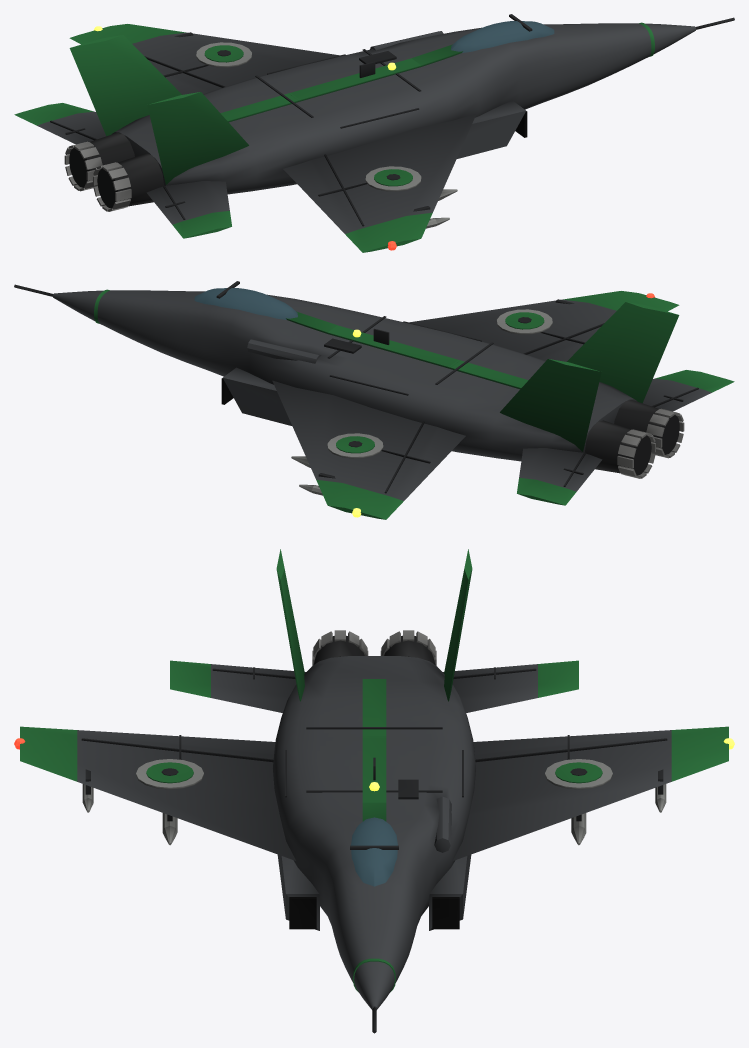
File: u_jet.glb
3 renders of one model, top to bottom at view 1: azimuth 30°, elevation 25°; view 2: azimuth 150°, elevation 25°; view 3: azimuth 270°, elevation 25°, orthographic. The views are drawn at different scales.
Parts seen in each view (by area): view 1: Jet_Walls, Jet_Details; view 2: Jet_Walls, Jet_Details; view 3: Jet_Walls, Jet_Details.
Part boxes in pixels (box(x1,y1,x2,y2)): Jet_Walls: box(14, 23, 695, 252); Jet_Details: box(50, 14, 734, 250); Jet_Walls: box(53, 290, 734, 519); Jet_Details: box(14, 281, 698, 517); Jet_Walls: box(20, 549, 728, 1009); Jet_Details: box(14, 630, 734, 1033).
Size of the model in its own units: 1.32 by 0.2582 by 1.06.
